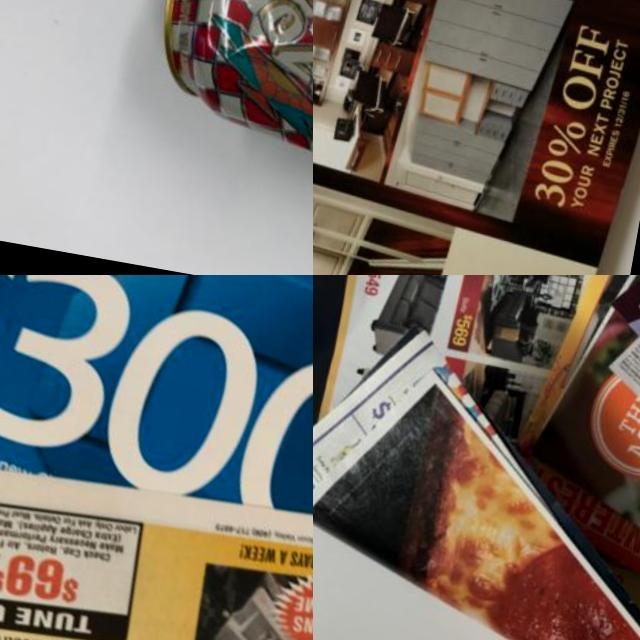lata: (142, 0, 313, 185)
papel: (313, 275, 640, 640), (0, 275, 313, 640), (313, 0, 640, 275)
